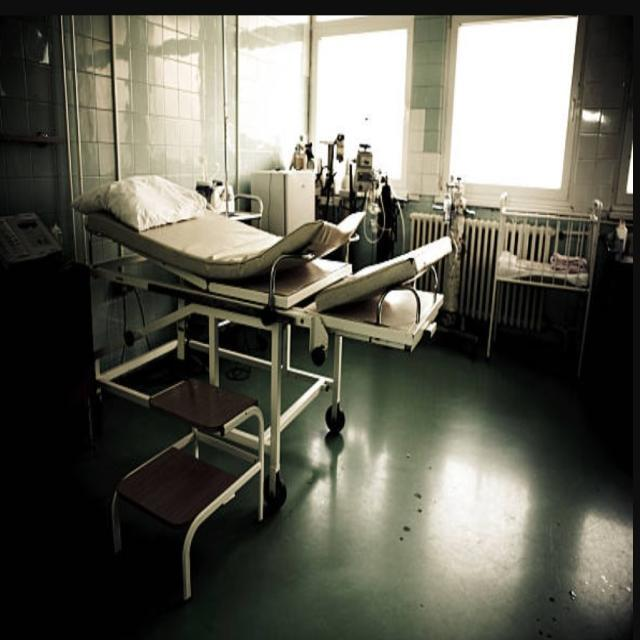bed: (80, 171, 454, 624)
stool: (75, 351, 284, 626)
